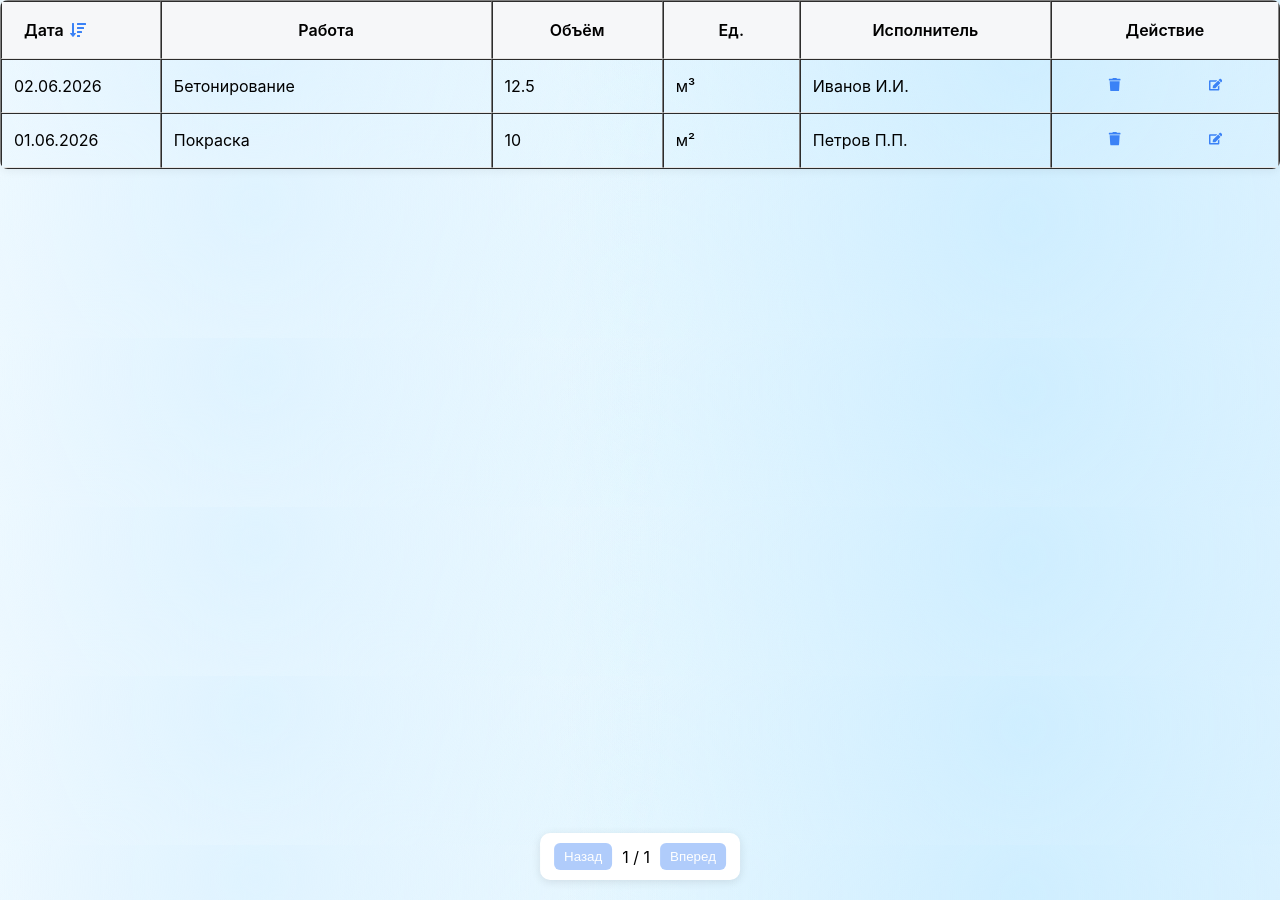
LogTable › opens delete modal on delete button click
This screenshot has width=1280, height=900.
Click the button titled "Удалить" in the row of "02.06.2026": (1114, 86) [1098,72,1131,100]
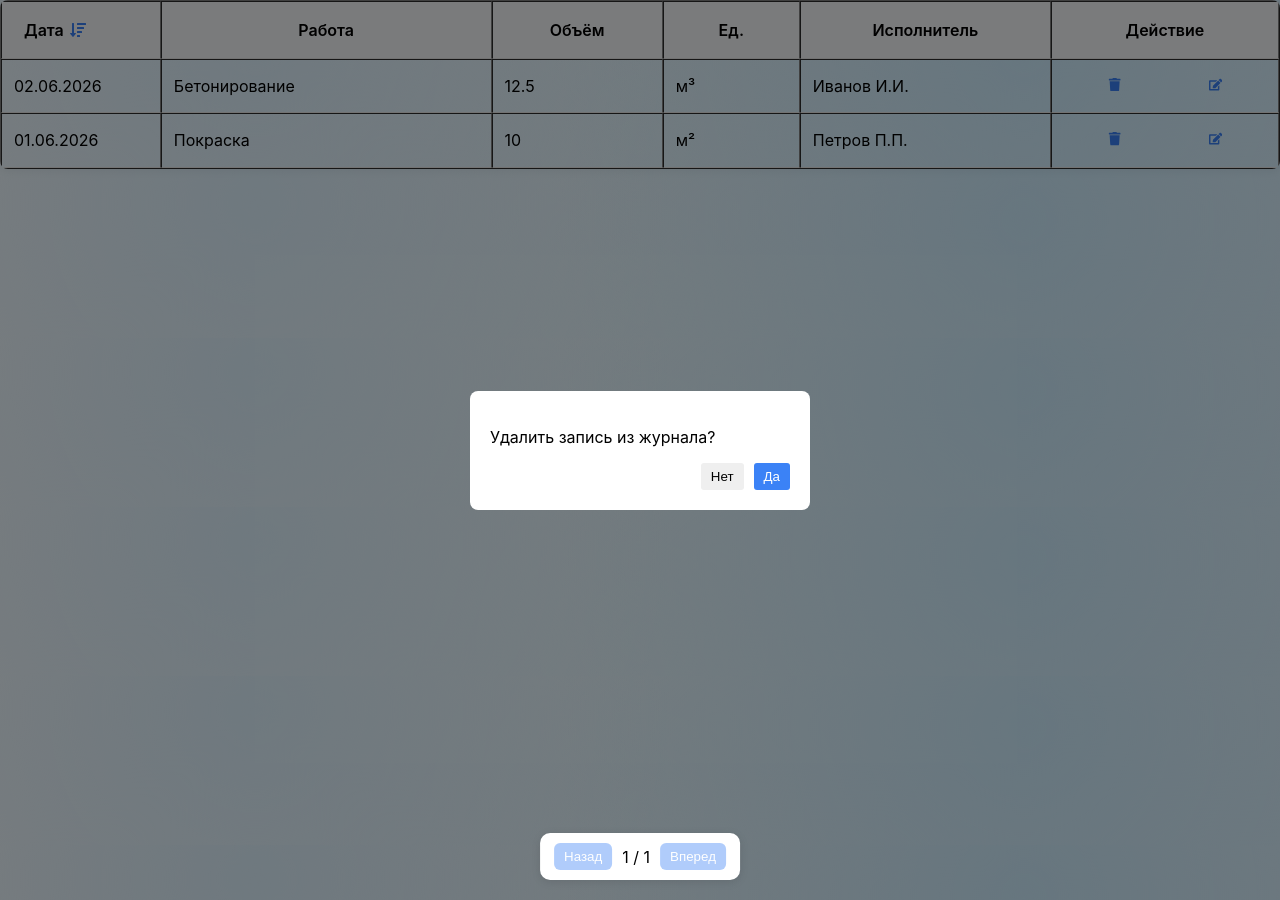
Check: the text "Удалить запись из журнала?" is shown, box [490,426,715,446]
